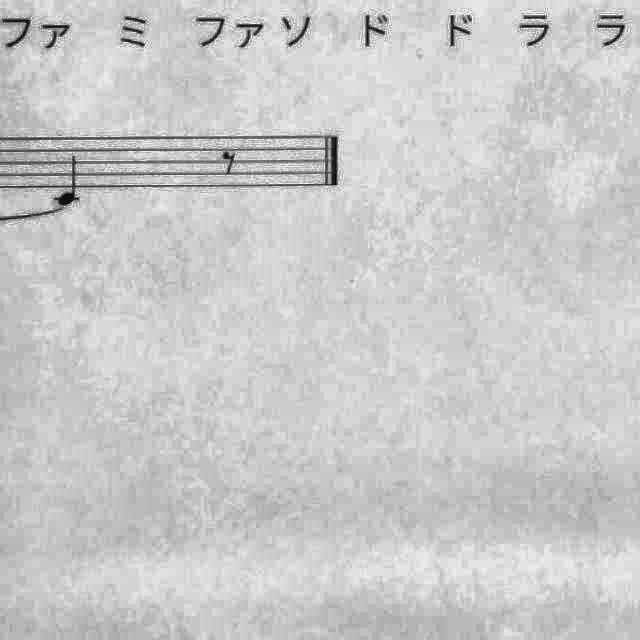Eighth-rest: (215, 143, 242, 180)
Quarter-note: (51, 152, 89, 208)
